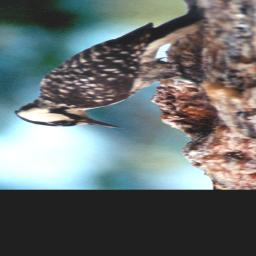Woodpecker: (0, 4, 218, 131)
